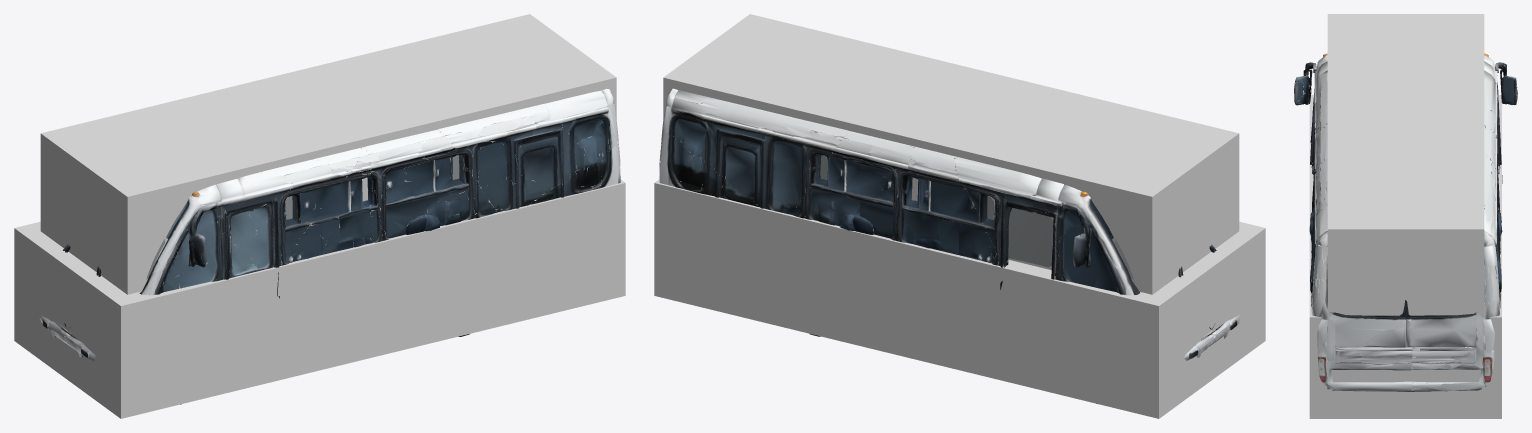
File: onibus.glb
3 views of the same model, side by side, from view 1: azimuth 30°, elevation 25°; view 2: azimuth 150°, elevation 25°; view 3: azimuth 270°, elevation 25° (orthographic). The views are drawn at different scales.
Visible parts, largest first — view 1: Col_onibus_1, Col_onibus_2, Car_onibus; view 2: Col_onibus_1, Col_onibus_2, Car_onibus; view 3: Col_onibus_2, Car_onibus, Col_onibus_1.
Part boxes in pixels (x1,y1,x2,y2): Col_onibus_1: (14, 179, 625, 418); Col_onibus_2: (40, 14, 616, 294); Car_onibus: (39, 89, 620, 404); Col_onibus_1: (654, 179, 1265, 418); Col_onibus_2: (663, 14, 1239, 294); Car_onibus: (659, 88, 1240, 403); Col_onibus_2: (1327, 14, 1484, 317); Car_onibus: (1294, 53, 1517, 391); Col_onibus_1: (1309, 95, 1501, 418).
Size of what is drawn, in the model's own units: 7.85 by 3.19 by 3.3.
Materials: 2 (1 with a texture image).
